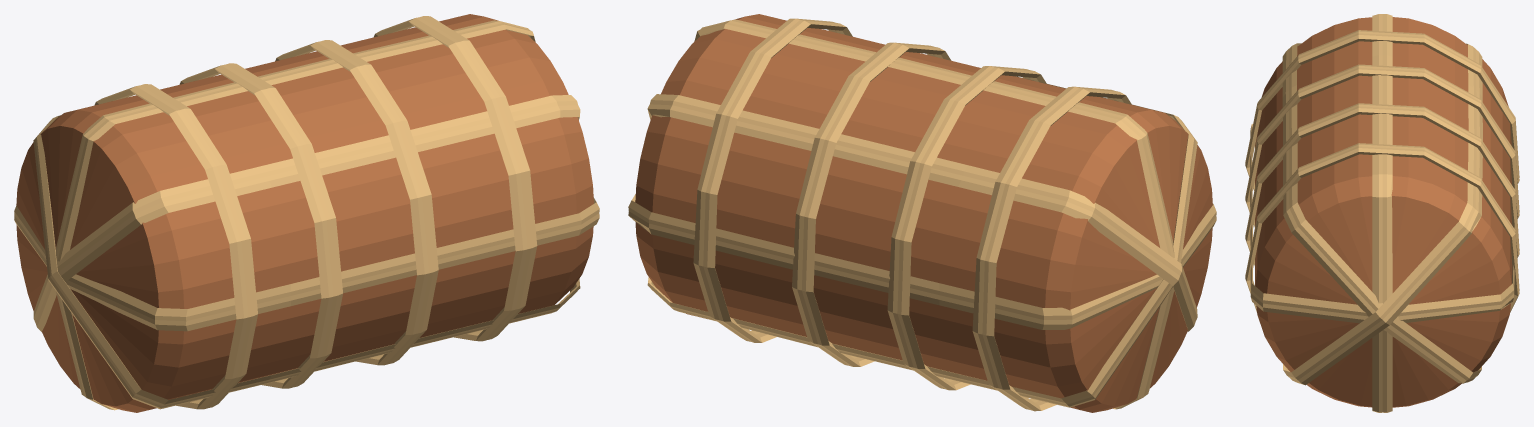
The model's file is tawara.fbx.
3 views of the same model, side by side, from view 1: azimuth 30°, elevation 25°; view 2: azimuth 150°, elevation 25°; view 3: azimuth 270°, elevation 25° (orthographic). The views are drawn at different scales.
Visible parts, largest first — view 1: Torus.008; view 2: Torus.008; view 3: Torus.008.
Boxes of the visible parts, left/top/right/bottom form: Torus.008: left=14, top=14, right=599, bottom=412; Torus.008: left=628, top=14, right=1216, bottom=412; Torus.008: left=1245, top=14, right=1519, bottom=412.
Size of the model in its own units: 386 by 213 by 213.
